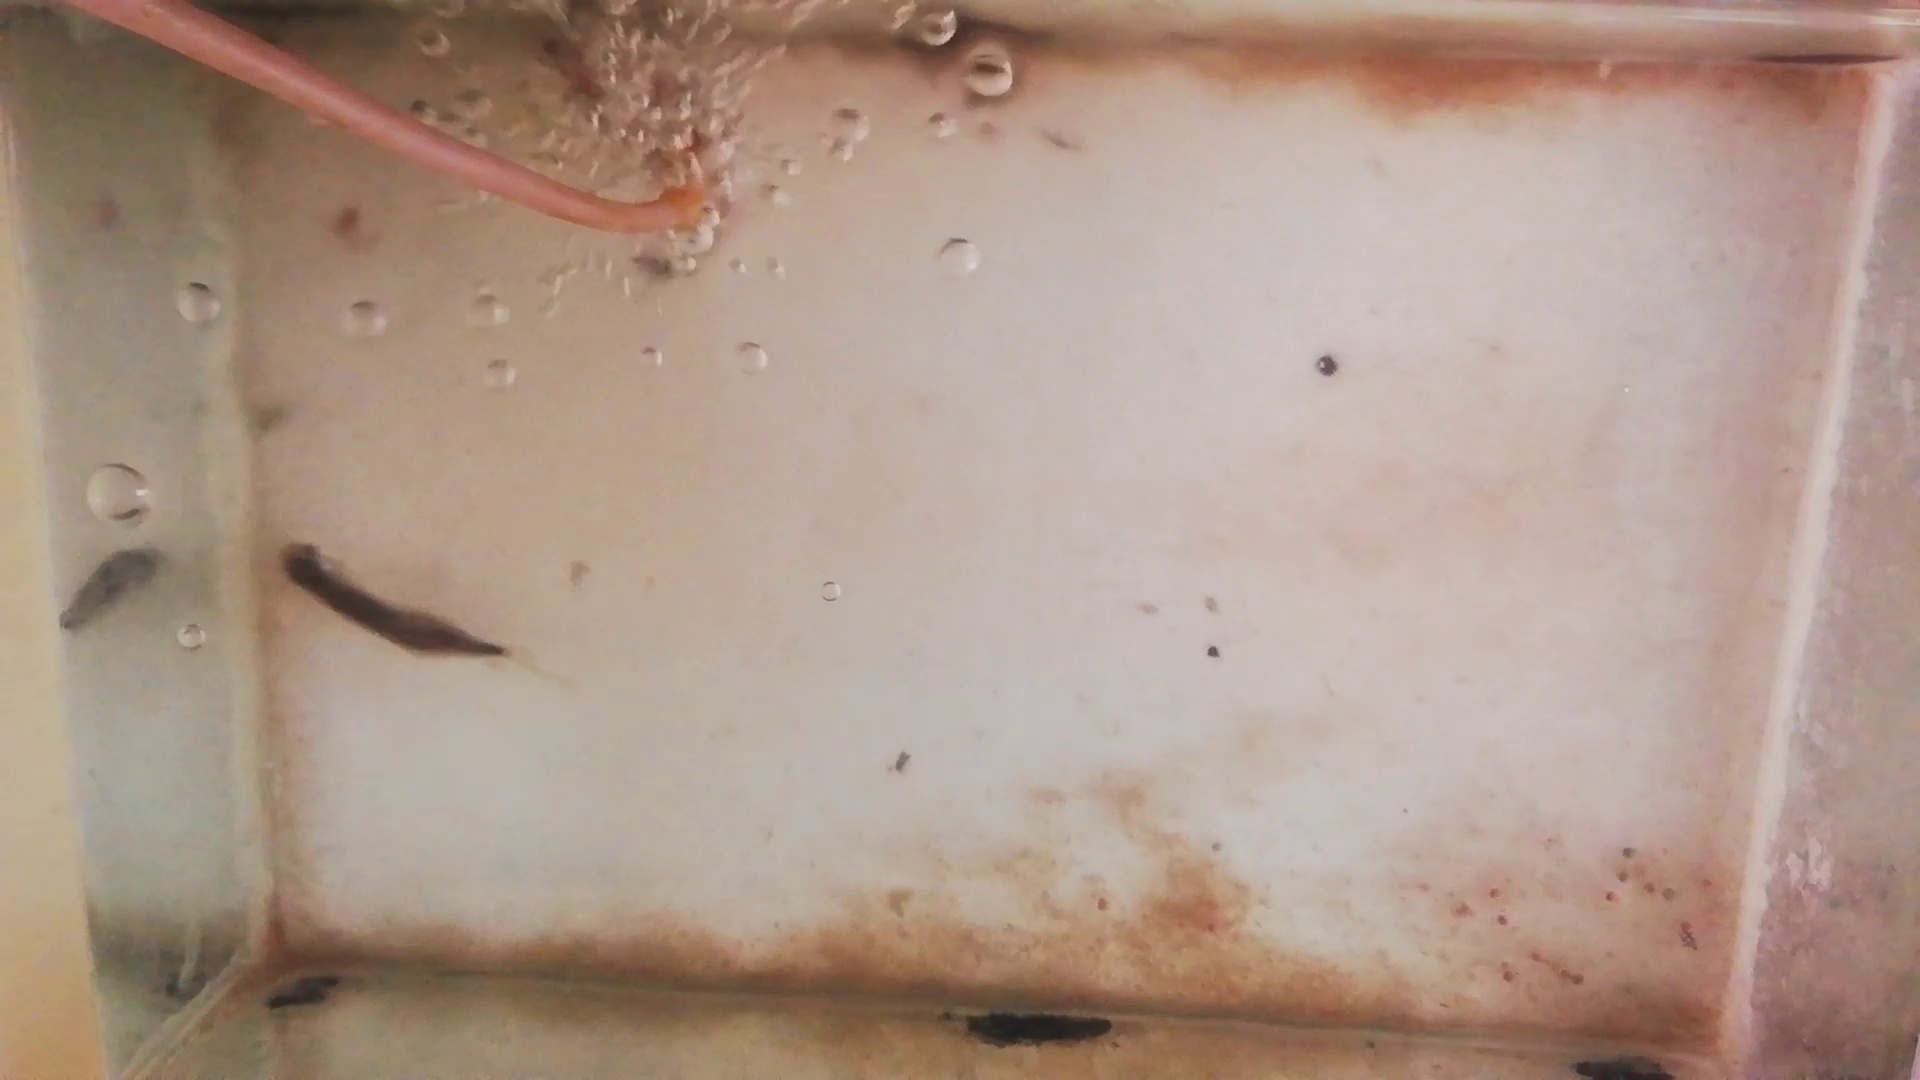fish: (280, 541, 502, 655), (541, 26, 617, 124)
